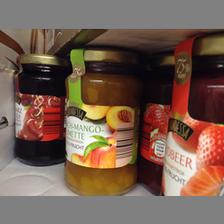jam: (64, 49, 143, 195), (160, 36, 223, 197), (14, 54, 68, 167)
